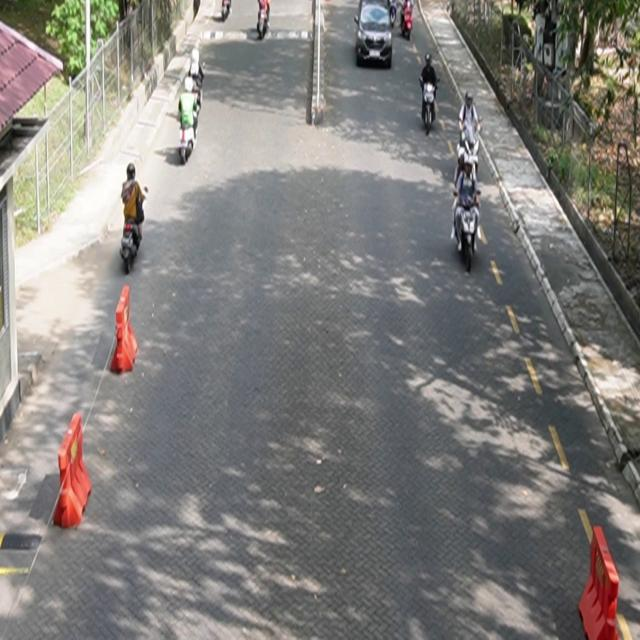car: (355, 1, 394, 69)
